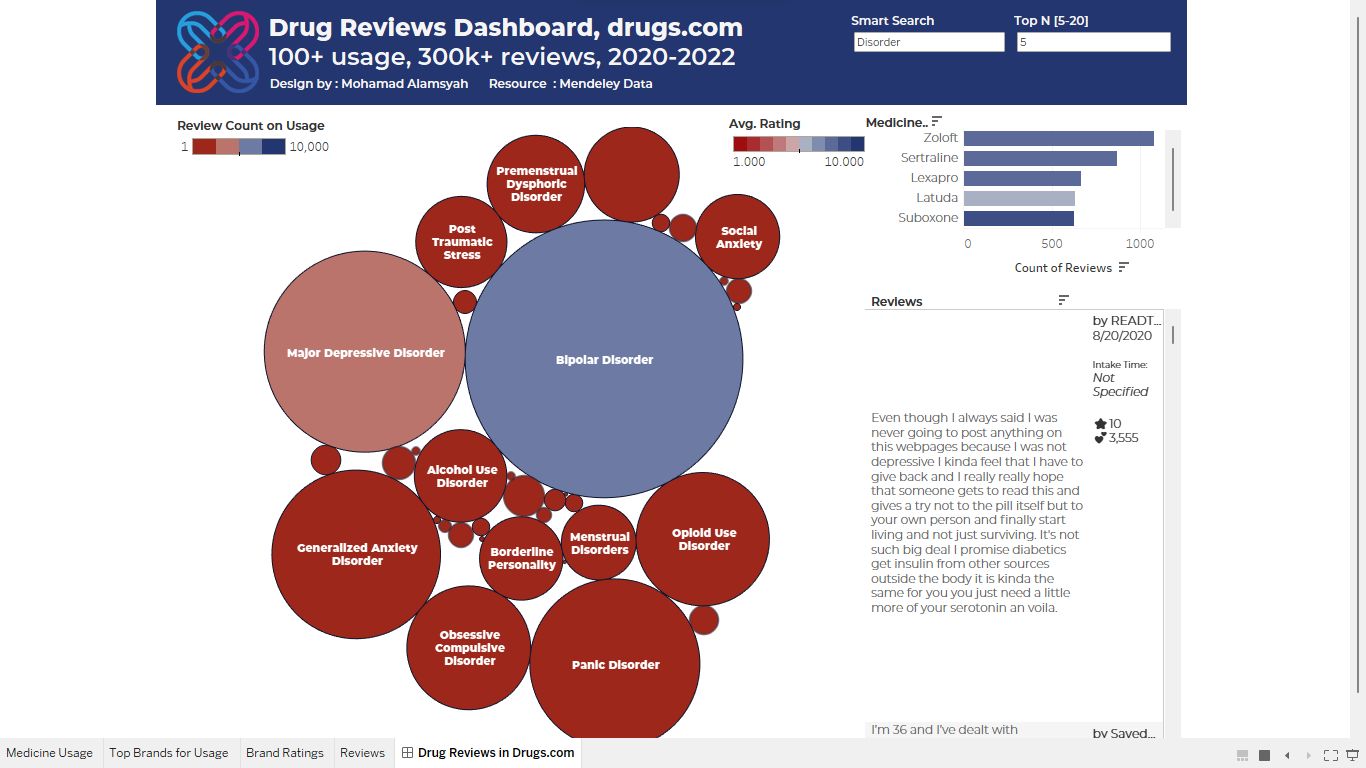

This screenshot's page, from the dashboard's own definition file:
{"tool":"tableau","page":{"name":"drug-reviews-bigquery","canvas":[1000,800],"ordinal":0},"visuals":[{"type":"text","box":[92,10,523,68]},{"type":"image","param":"C:/Users/acer/Downloads/PROJECTS-2.0/DrugReviews/drugscom-logomark-112x112.png","box":[11,14,78,83]},{"type":"parameter","param":"[Parameters].[Parameter 2]","box":[807,14,159,67]},{"type":"parameter","param":"[Parameters].[Parameter 1]","box":[619,15,151,44]},{"type":"text","box":[620,56,180,45]},{"type":"text","box":[819,62,134,33]},{"type":"text","box":[93,68,440,32]},{"type":"worksheet","title":"Top Brands by Usage","mark":"Automatic","rows":["MedicineBrandName"],"cols":["Reviews"],"box":[605,100,388,215]},{"type":"legend","title":"Medicine Usage","param":"[federated.18pzkps1q4mk2b1e8keax0oiqh2z].[cnt:MedicineUsedFor:qk]","box":[18,115,168,76]},{"type":"legend","title":"Top Brands by Usage","param":"[federated.18pzkps1q4mk2b1e8keax0oiqh2z].[avg:Rating:qk]","box":[357,117,233,76]},{"type":"worksheet","title":"Medicine Usage","mark":"Circle","box":[10,176,591,608]},{"type":"worksheet","title":"Top Generics by Usage","mark":"Automatic","rows":["MedicineGenericName"],"cols":["Reviews"],"box":[606,305,387,214]},{"type":"text","box":[608,525,384,47]},{"type":"worksheet","title":"Reviews","mark":"Automatic","rows":["Reviews"],"box":[605,556,388,234]}]}

Visuals, with their boxes on the page's 1000x800 design canvas (x1, y1, x2, y2). These are canvas units, not pixel positions in the 1366x768 screenshot, which may show the page scaled, cropped or inside an application window:
text: Rect(92, 10, 615, 78)
image: Rect(11, 14, 89, 97)
parameter: Rect(807, 14, 966, 81)
parameter: Rect(619, 15, 770, 59)
text: Rect(620, 56, 800, 101)
text: Rect(819, 62, 953, 95)
text: Rect(93, 68, 533, 100)
"Top Brands by Usage" worksheet: Rect(605, 100, 993, 315)
"Medicine Usage" legend: Rect(18, 115, 186, 191)
"Top Brands by Usage" legend: Rect(357, 117, 590, 193)
"Medicine Usage" worksheet (Circle marks): Rect(10, 176, 601, 784)
"Top Generics by Usage" worksheet: Rect(606, 305, 993, 519)
text: Rect(608, 525, 992, 572)
"Reviews" worksheet: Rect(605, 556, 993, 790)
